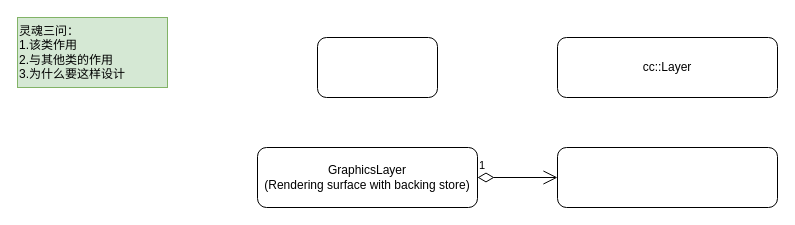
Image size: 795x225. Some labels were removed from this diagram. The centre of each missing label's shape, as x and y in pixels:
"cc::PictureLayer" belongs at point (667, 177).
"LayerClient" belongs at point (377, 67).
